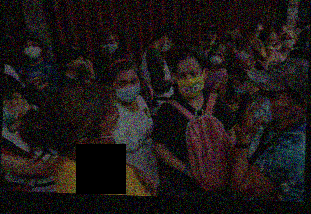mask_weared_incorrect: (70, 56, 85, 72), (204, 30, 216, 45)
with_mask: (97, 111, 129, 151), (255, 88, 292, 122), (176, 67, 205, 99), (114, 76, 141, 103), (2, 100, 20, 125), (229, 78, 247, 98), (23, 41, 41, 60), (101, 38, 118, 56), (237, 46, 254, 63), (208, 50, 223, 66), (264, 35, 277, 49), (281, 35, 294, 48), (162, 40, 172, 53)
